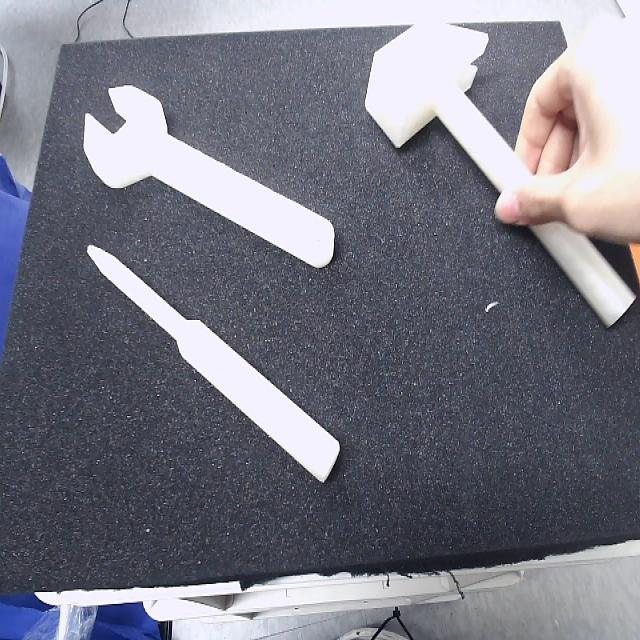Driver: (85, 247, 342, 484)
Spanner: (83, 87, 336, 271)
